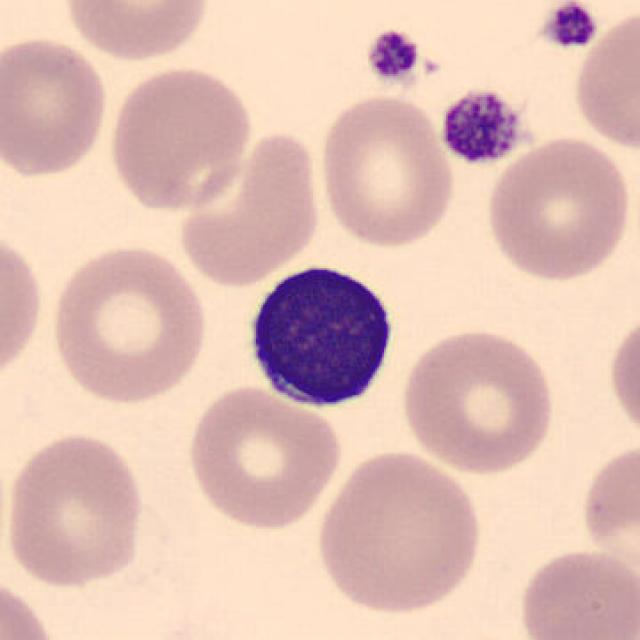Lymphocyte: (237, 254, 407, 416)
Platelets: (434, 84, 528, 168), (361, 27, 423, 86), (537, 0, 599, 51)
RBC: (311, 446, 485, 617), (46, 240, 212, 407), (396, 324, 560, 476), (181, 381, 345, 532), (174, 127, 324, 287), (480, 132, 635, 286), (2, 428, 148, 590), (105, 62, 256, 213), (314, 92, 458, 250), (0, 32, 112, 180), (514, 545, 638, 640), (569, 4, 640, 155), (576, 433, 640, 598), (58, 0, 215, 63), (0, 226, 48, 388), (606, 306, 640, 449), (0, 571, 64, 640)
